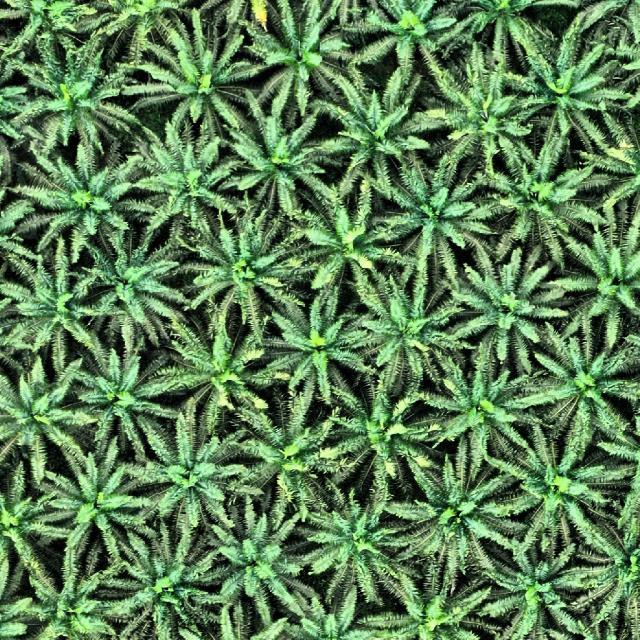Kelapa_Sawit: (460, 255, 566, 368), (239, 406, 345, 509), (540, 339, 640, 445), (170, 324, 270, 428), (409, 472, 514, 567), (236, 17, 350, 103), (31, 157, 142, 245), (362, 283, 454, 389), (434, 375, 532, 473), (308, 506, 416, 591), (150, 24, 241, 124), (330, 89, 426, 183), (270, 306, 370, 396), (518, 453, 610, 550), (494, 147, 584, 246), (492, 539, 586, 633), (203, 520, 300, 611), (22, 58, 118, 146), (115, 540, 204, 632), (346, 394, 434, 484), (197, 228, 286, 316), (81, 368, 172, 454), (437, 78, 536, 156), (96, 254, 176, 350), (12, 268, 100, 354), (54, 467, 142, 553), (150, 138, 234, 228), (5, 376, 83, 471), (242, 122, 325, 211), (152, 434, 226, 532), (402, 181, 484, 269), (312, 203, 400, 284), (528, 46, 605, 134), (33, 562, 119, 640), (575, 235, 640, 338), (362, 3, 460, 70), (461, 0, 555, 64), (270, 590, 379, 640), (592, 504, 640, 612), (595, 111, 640, 220), (0, 480, 47, 582), (390, 594, 488, 640), (0, 0, 84, 50)
